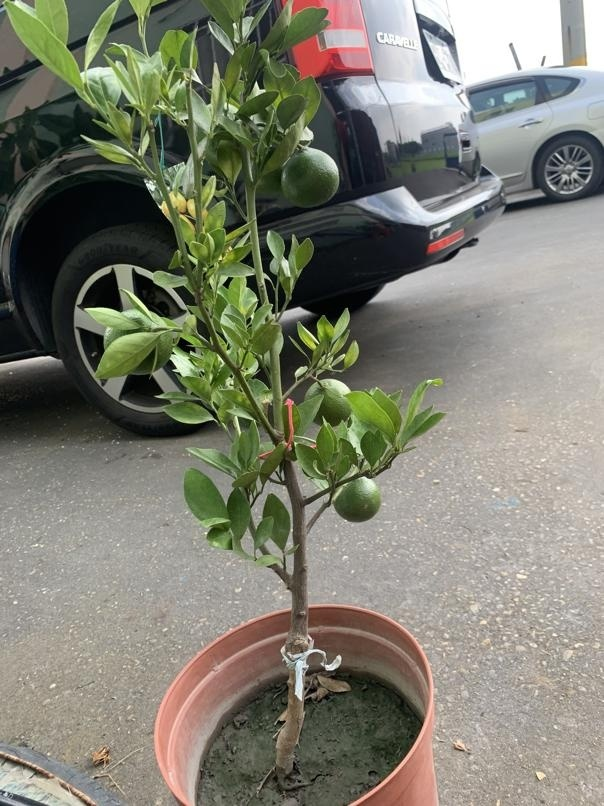Tangerine: (278, 149, 341, 209), (332, 473, 383, 524)
